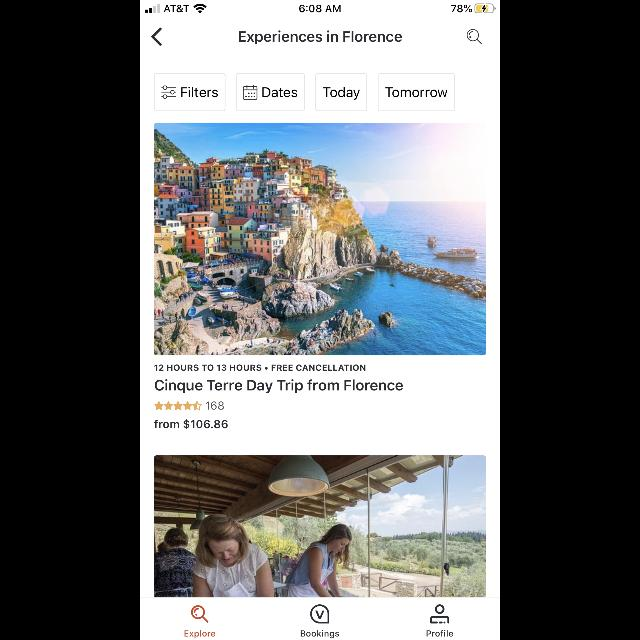icon: (154, 402, 202, 411), (430, 604, 450, 624), (466, 28, 482, 44), (192, 606, 208, 622), (152, 28, 162, 46)
image: (154, 123, 486, 355), (154, 455, 486, 597), (310, 604, 330, 624)
text: (155, 379, 403, 393), (238, 31, 402, 45), (154, 364, 366, 372), (154, 419, 228, 429), (301, 630, 339, 638), (184, 630, 216, 638), (426, 630, 454, 636), (206, 402, 224, 410)
textbutton: (378, 74, 454, 112), (154, 73, 226, 111), (237, 74, 306, 112), (315, 74, 367, 112)
uppertaskbar: (140, 0, 500, 14)
